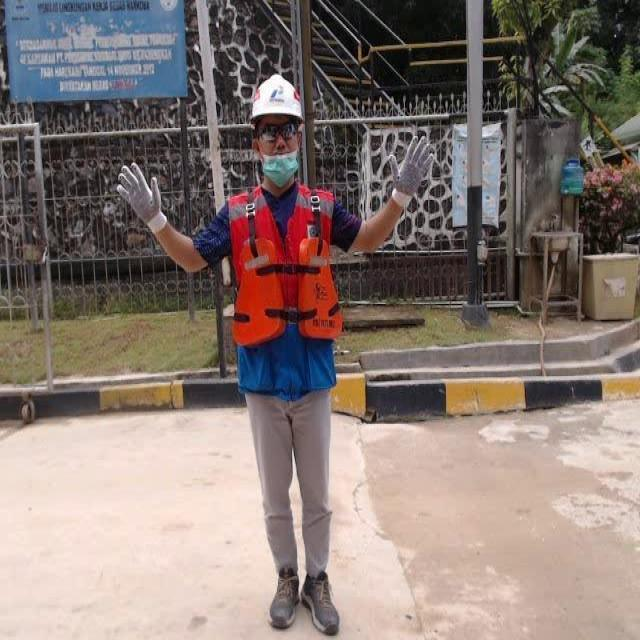Vest: (231, 234, 345, 346)
